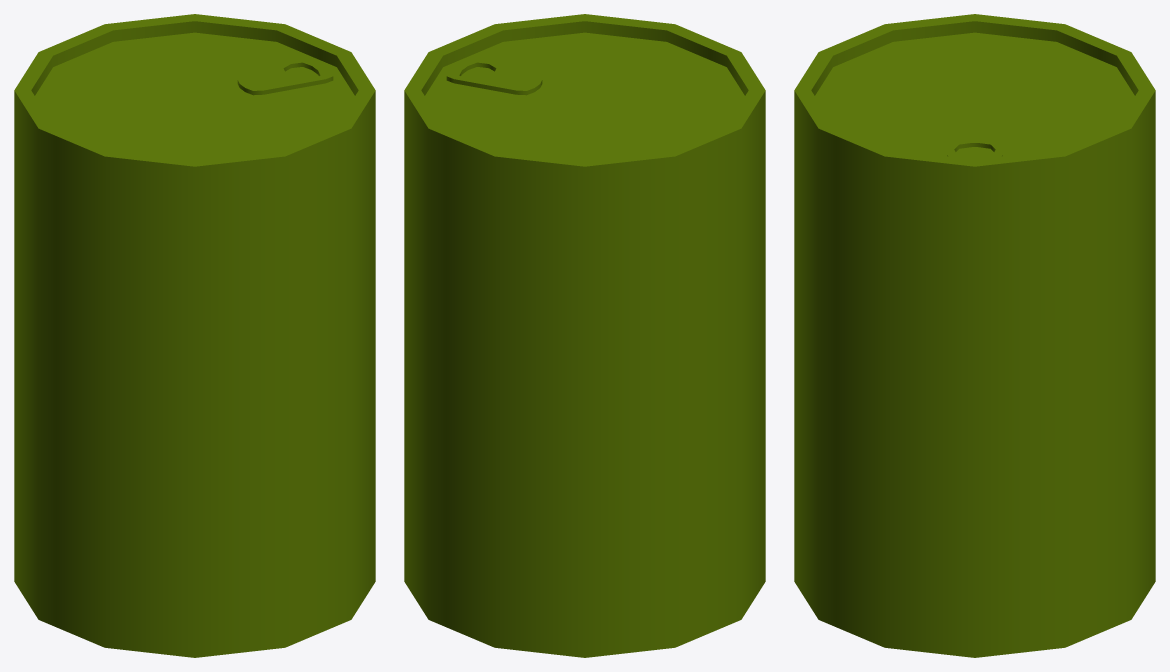
File: SM_Can.fbx
The picture shows the model from 3 angles, left to right: view 1: azimuth 30°, elevation 25°; view 2: azimuth 150°, elevation 25°; view 3: azimuth 270°, elevation 25°; orthographic projection.
Parts seen in each view (by area): view 1: SM_Can; view 2: SM_Can; view 3: SM_Can.
Boxes of the visible parts, x1,y1,x2,y2 form: SM_Can: (14, 14, 375, 657); SM_Can: (404, 14, 765, 657); SM_Can: (794, 14, 1155, 657).
Bounding box in the file's own units: 20 × 30 × 20.
